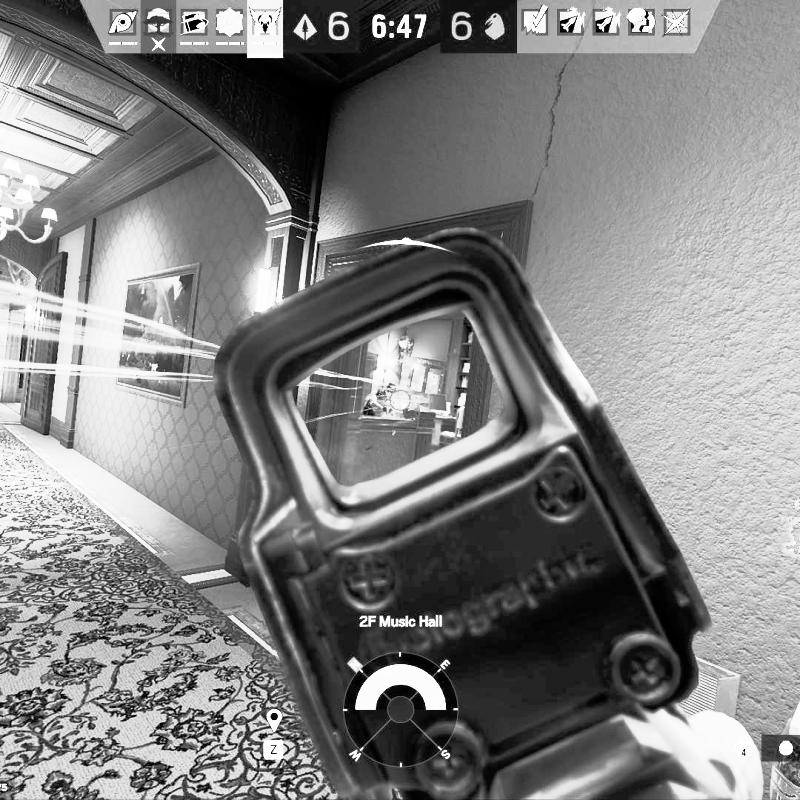Character: (362, 380, 402, 418)
Friend_label: (780, 499, 800, 524)
Head: (384, 382, 397, 397)
